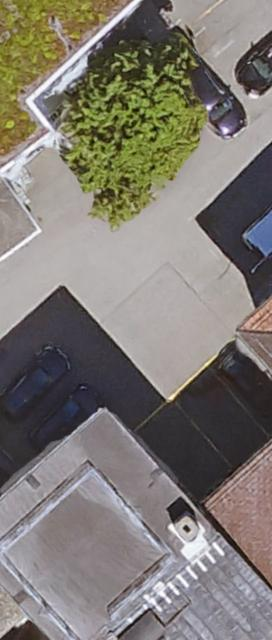tree: (55, 36, 196, 226)
